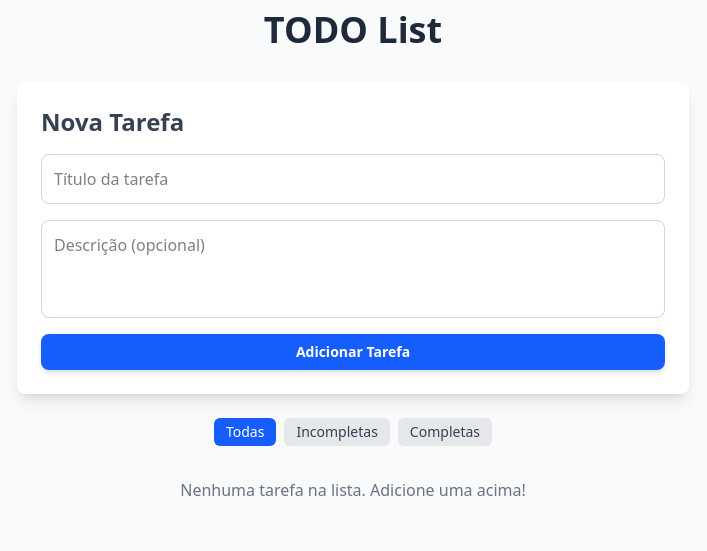
Scenario: Home Page Integration Test › should allow a user to add a new task and see it in the list
Type "Comprar café" into the field with placeholder "Título da tarefa" at (353, 179), box [41,154,665,204]
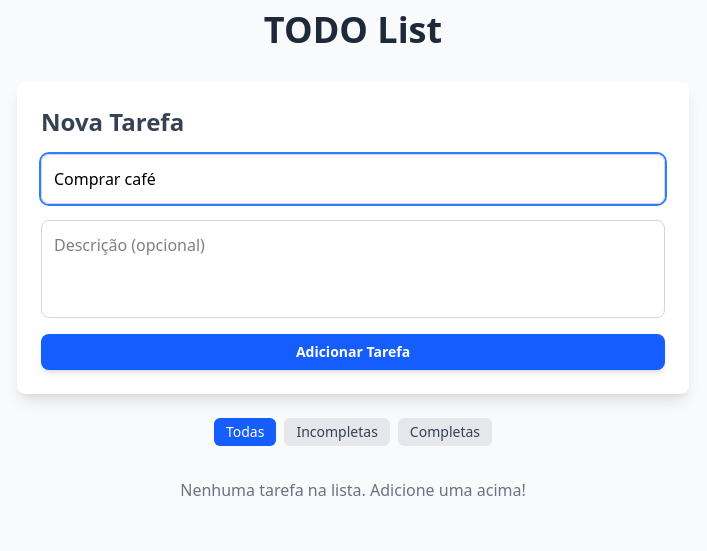
Click the button "Adicionar Tarefa" at (353, 352), box [41,334,665,370]
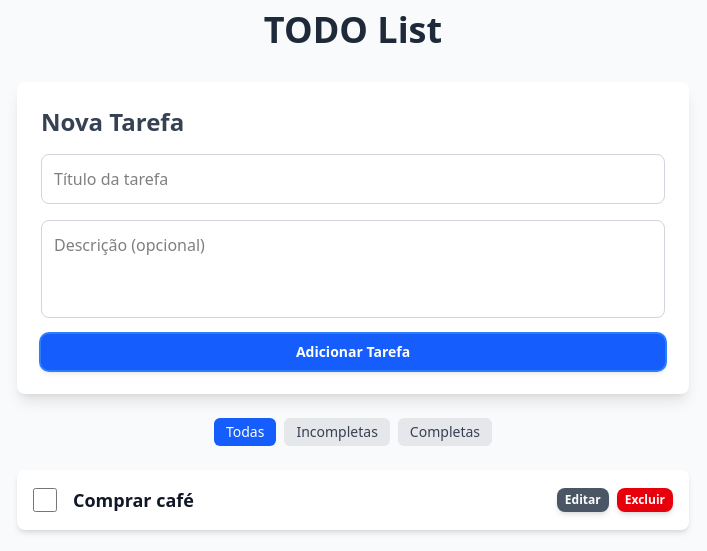
Result: the heading "Comprar café" is shown at [73,486,194,514]
